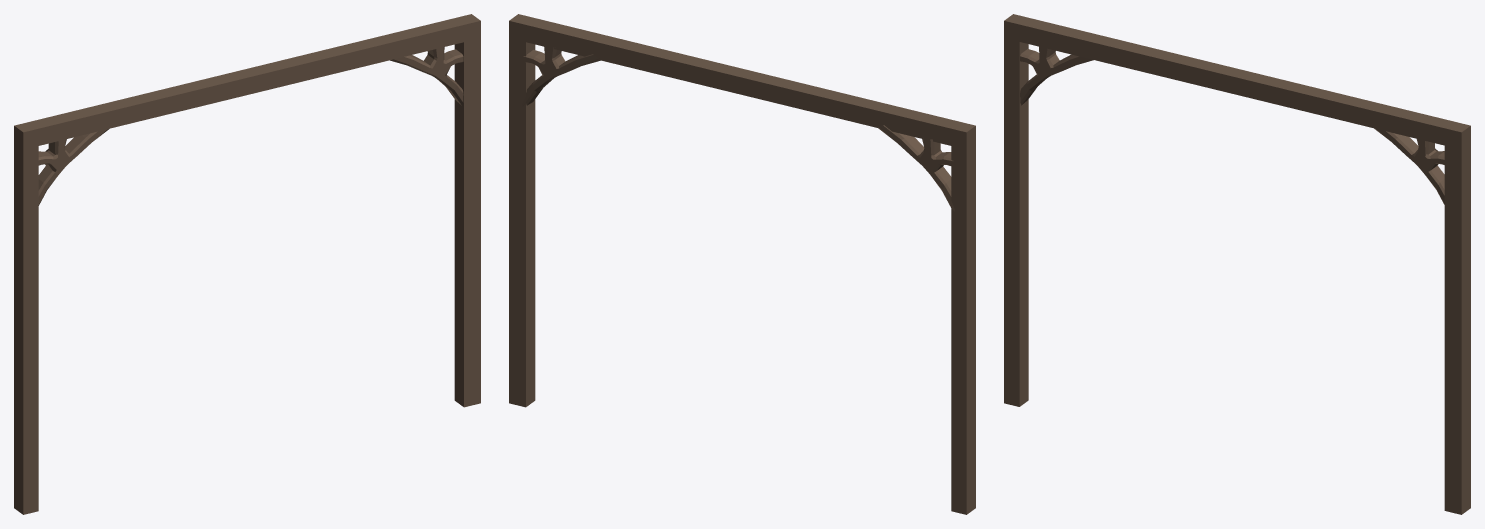
Rendered from Beams_2.fbx.
The picture shows the model from 3 angles, left to right: view 1: azimuth 30°, elevation 25°; view 2: azimuth 150°, elevation 25°; view 3: azimuth 330°, elevation 25°; orthographic projection.
Parts seen in each view (by area): view 1: Beams_2; view 2: Beams_2; view 3: Beams_2.
Part boxes in pixels (box(x1,y1,x2,y2)): Beams_2: box(14, 14, 480, 514); Beams_2: box(509, 14, 975, 514); Beams_2: box(1004, 14, 1470, 514).
Bounding box in the file's own units: 488 × 17.66 × 390.
